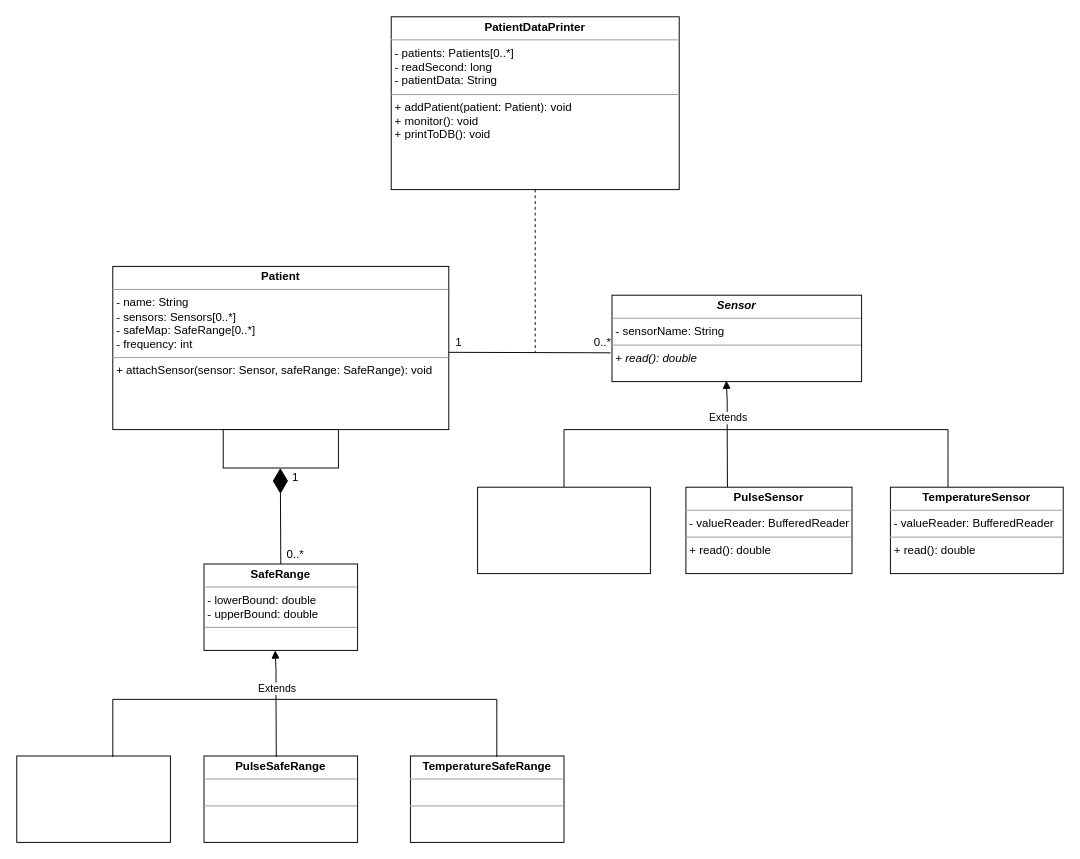
The diagram is 1080 pixels wide and 859 high, and some of its shapes have lost their labels. Each missing label, with the centre of its shape:
"BloodPressureSafeRange" belongs at [93,798].
"BloodPressureSensor - valueReader: BufferedReader + read(): double" belongs at [563,530].
"sensor" belongs at [280,448].
